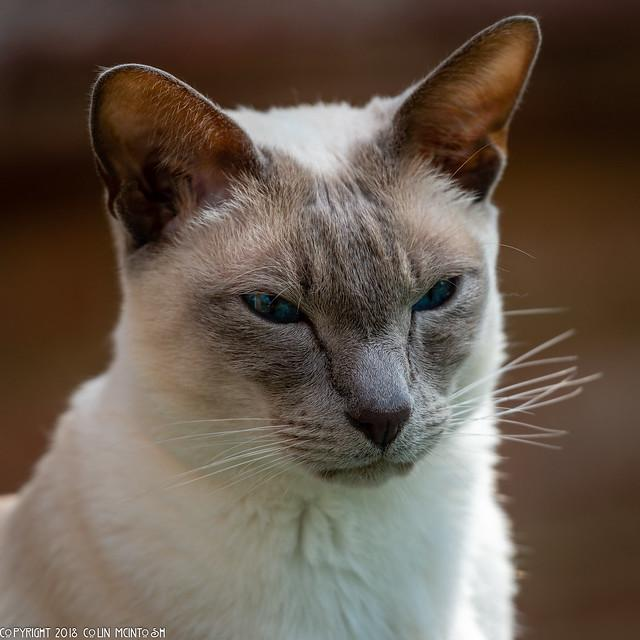siamese: (84, 9, 540, 506)
